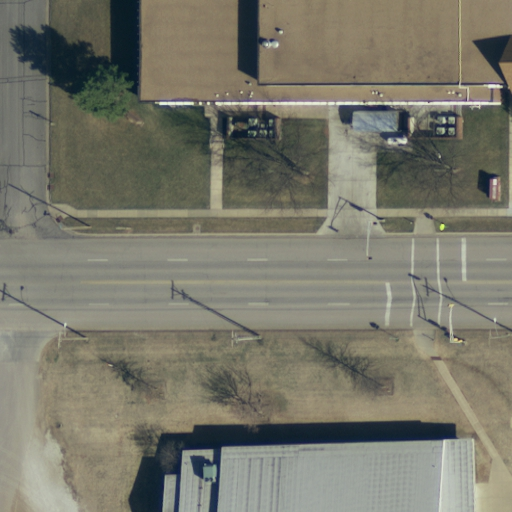DT: (441, 302, 470, 352), (53, 326, 92, 354), (225, 327, 264, 355), (52, 216, 95, 239), (484, 324, 511, 351)
